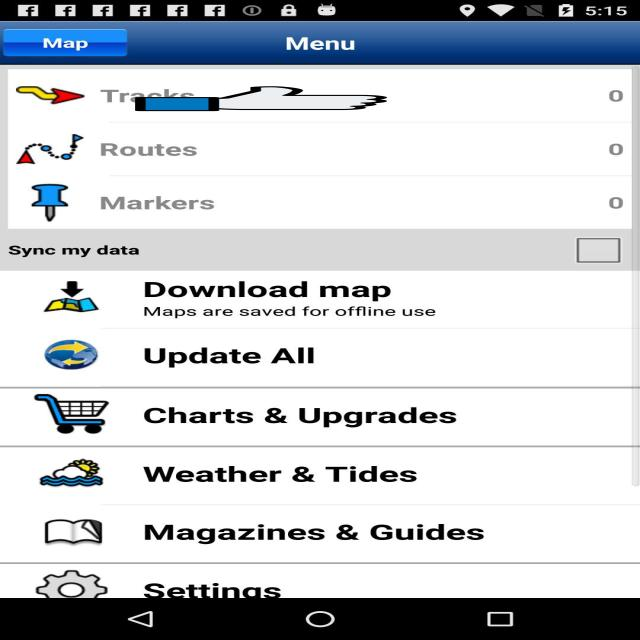privacy zuckering: (135, 85, 387, 112)
